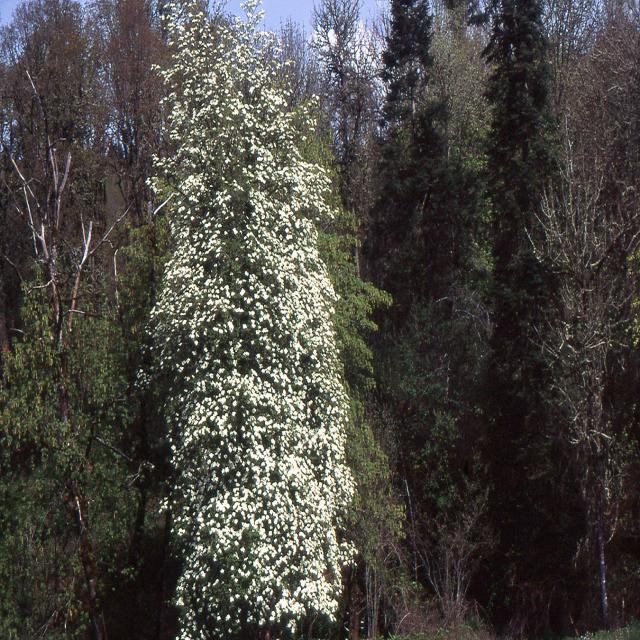Cornus nuttallii: (147, 3, 362, 640)
